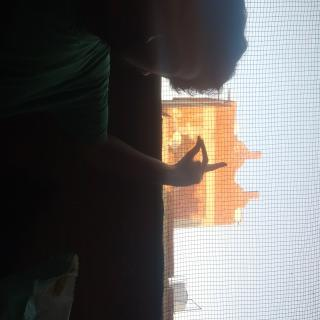TAA: (99, 118, 142, 199)
